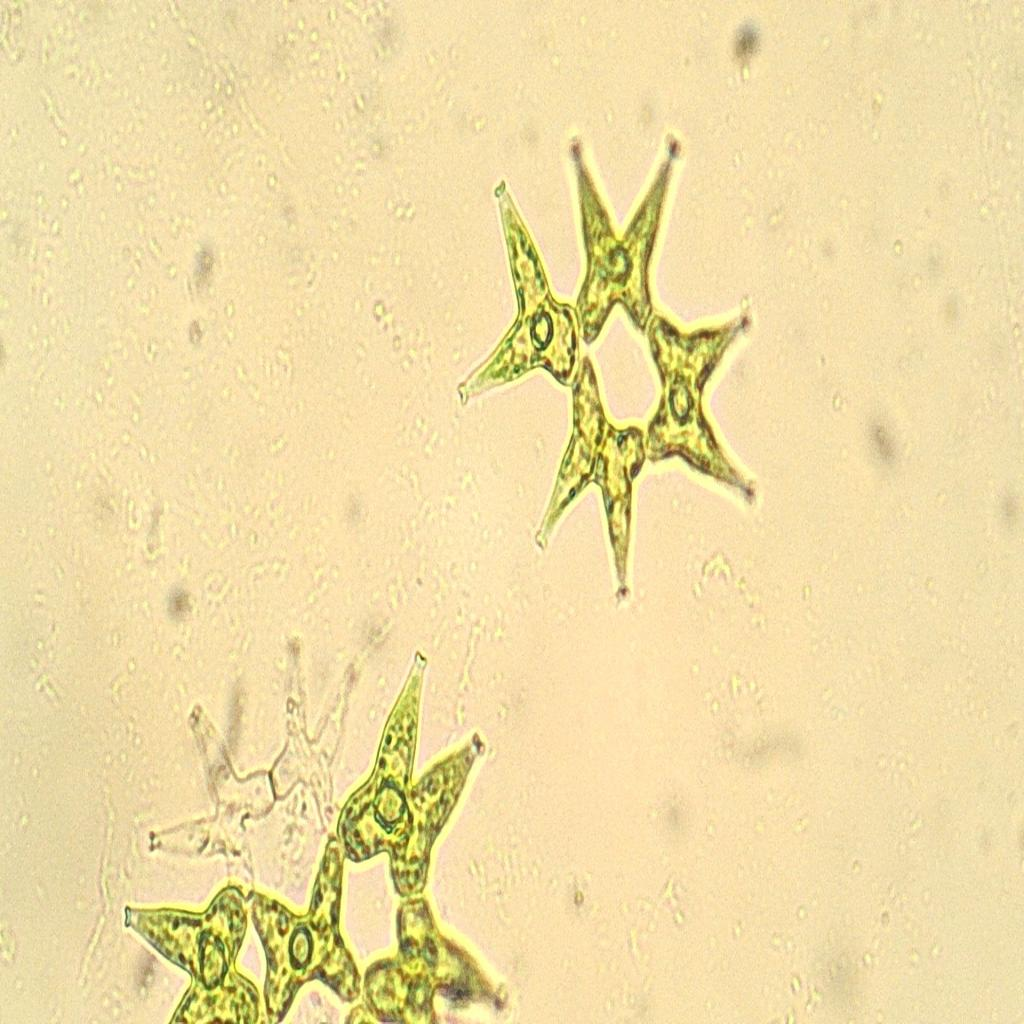Pediastrum_CT: (438, 90, 775, 626)
